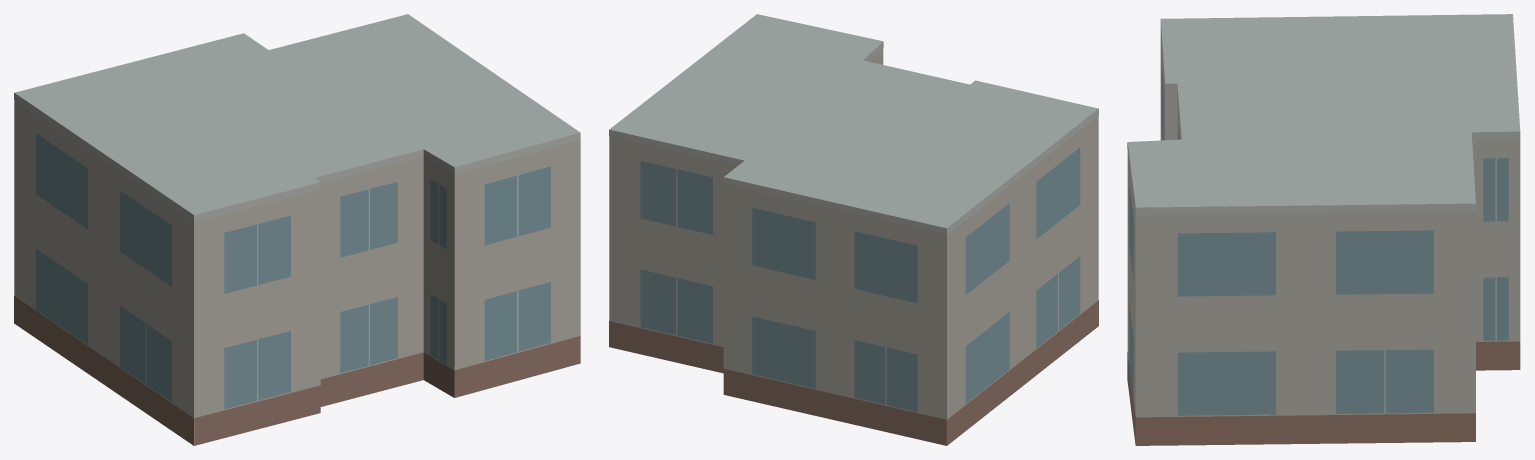
The model's file is survey-upis-32749513.glb.
The picture shows the model from 3 angles, left to right: view 1: azimuth 30°, elevation 25°; view 2: azimuth 150°, elevation 25°; view 3: azimuth 270°, elevation 25°; orthographic projection. The views are drawn at different scales.
Parts seen in each view (by area): view 1: survey-upis-32749513.tmp; view 2: survey-upis-32749513.tmp; view 3: survey-upis-32749513.tmp.
Part boxes in pixels (x1,y1,x2,y2): survey-upis-32749513.tmp: [14, 14, 580, 445]; survey-upis-32749513.tmp: [609, 14, 1098, 445]; survey-upis-32749513.tmp: [1127, 14, 1520, 445].
Bounding box in the file's own units: 13.51 × 7.75 × 11.58.
